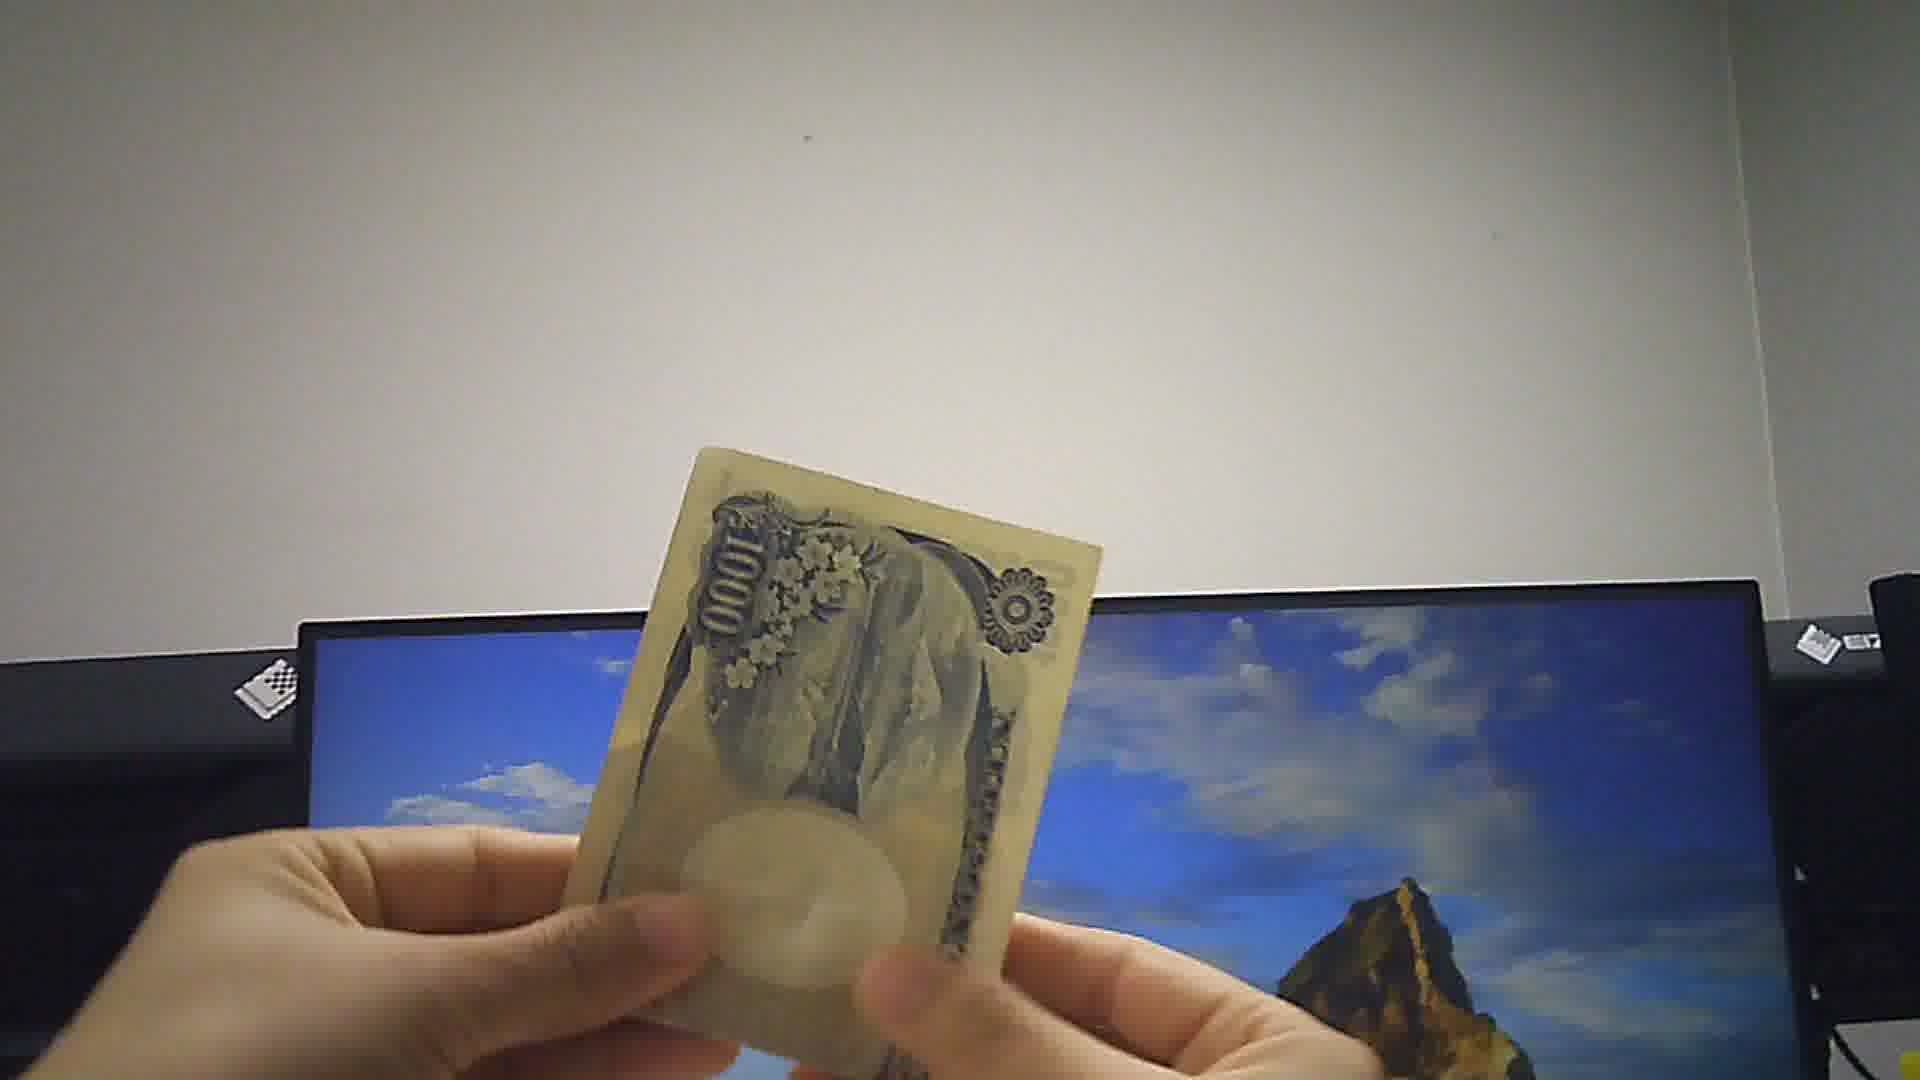1,000 Yen: (555, 433, 1105, 1065)
